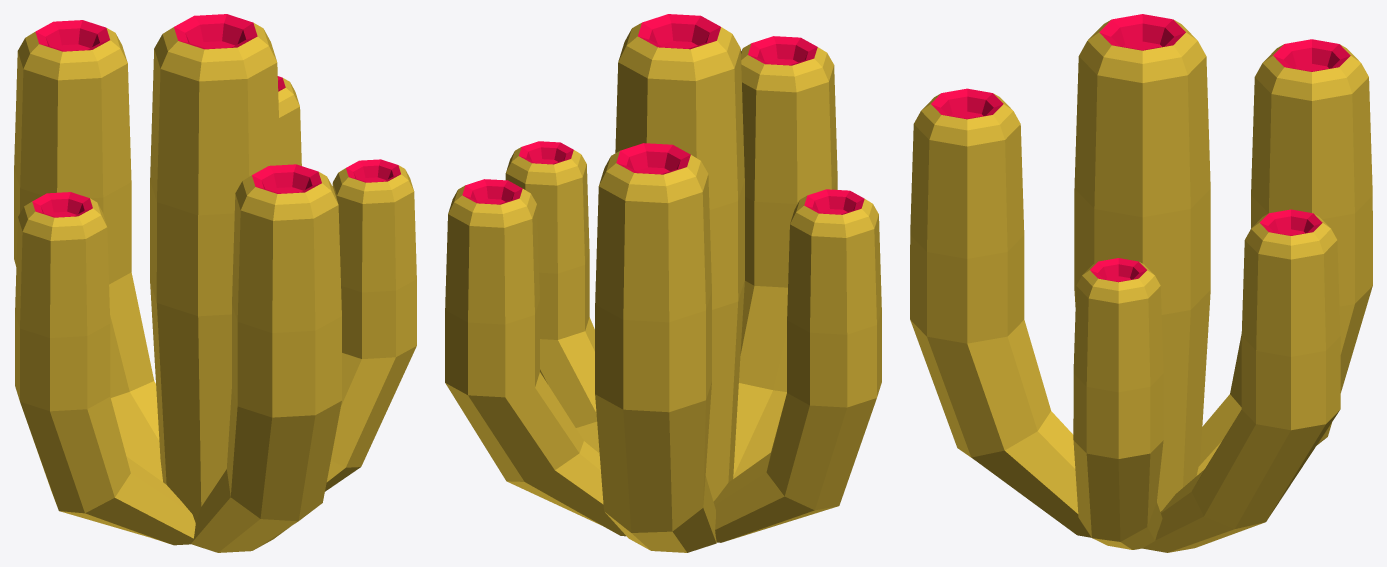
Rendered from propSponges1A.fbx.
3 renders of one model, left to right at view 1: azimuth 30°, elevation 25°; view 2: azimuth 150°, elevation 25°; view 3: azimuth 270°, elevation 25°, orthographic.
Visible parts, largest first — view 1: Esponges1A; view 2: Esponges1A; view 3: Esponges1A.
Boxes of the visible parts, x1,y1,x2,y2 form: Esponges1A: [14, 14, 416, 552]; Esponges1A: [445, 14, 881, 552]; Esponges1A: [910, 14, 1372, 552].
Bounding box in the file's own units: 223 × 273 × 234.
